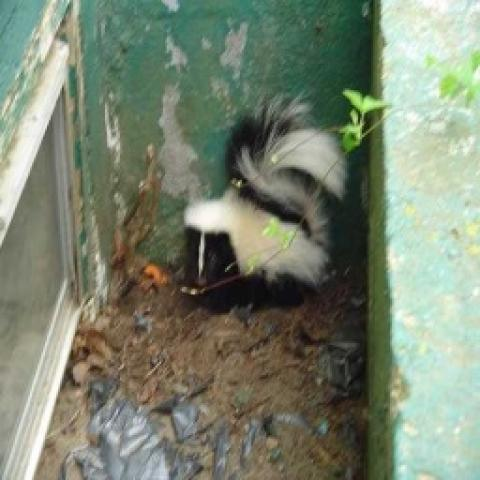small_animal: (176, 90, 349, 311)
